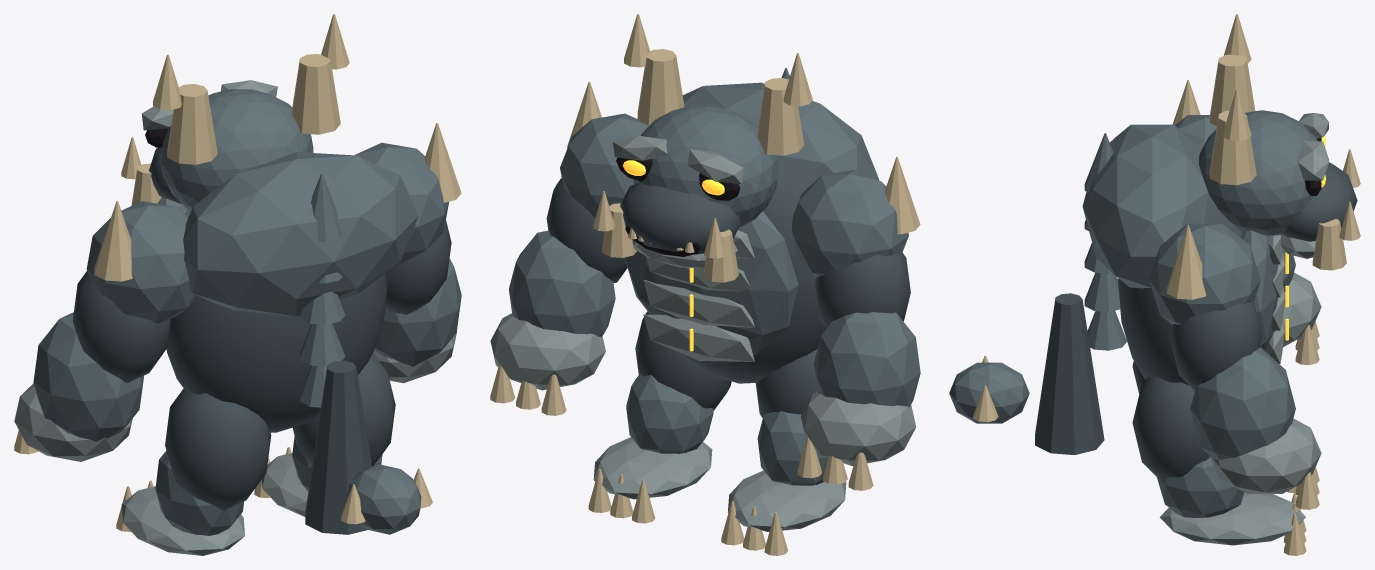
File: riftbeast.glb
3 renders of one model, left to right at view 1: azimuth 30°, elevation 25°; view 2: azimuth 150°, elevation 25°; view 3: azimuth 270°, elevation 25°, orthographic. The views are drawn at different scales.
Visible parts, largest first — view 1: HunchedBack, MassiveTorso, Thigh_-1, HeavySkull, HugeForearm_-1, Shoulder_-1, HeavyTail, UpperArm_-1, HugeForearm_1, Shoulder_1, BroadFoot_-1, TailClub (+21 smaller); view 2: Shoulder_-1, HeavySkull, HugeForearm_-1, HugeForearm_1, ChestArmour, HunchedBack, MassiveTorso, Fist_-1, Fist_1, BluntMuzzle, Shoulder_1, UpperArm_-1 (+33 smaller); view 3: HunchedBack, HeavySkull, HugeForearm_1, HeavyTail, Shoulder_1, Thigh_1, UpperArm_1, Fist_1, BroadFoot_1, MassiveTorso, TailClub, Shin_1 (+22 smaller).
Boxes of the visible parts, x1,y1,x2,y2 form: HunchedBack: (183, 152, 418, 316); MassiveTorso: (166, 273, 387, 432); Thigh_-1: (165, 388, 271, 510); HeavySkull: (161, 89, 313, 209); HugeForearm_-1: (33, 312, 143, 441); Shoulder_-1: (86, 201, 196, 323); HeavyTail: (305, 360, 371, 534); UpperArm_-1: (73, 271, 170, 382); HugeForearm_1: (374, 259, 461, 366); Shoulder_1: (355, 142, 448, 267); BroadFoot_-1: (121, 486, 244, 555); TailClub: (347, 464, 421, 534); Shoulder_-1: (791, 169, 908, 276); HeavySkull: (633, 105, 777, 227); HugeForearm_-1: (814, 312, 920, 407); HugeForearm_1: (509, 230, 615, 336); ChestArmour: (624, 211, 798, 354); HunchedBack: (682, 82, 878, 189); MassiveTorso: (680, 166, 825, 383); Fist_-1: (800, 391, 915, 466); Fist_1: (490, 313, 605, 390); BluntMuzzle: (620, 183, 741, 254); Shoulder_1: (560, 113, 648, 217); UpperArm_-1: (815, 252, 910, 326); HunchedBack: (1082, 124, 1208, 288); HeavySkull: (1199, 110, 1327, 236); HugeForearm_1: (1190, 347, 1295, 459); HeavyTail: (1035, 293, 1104, 454); Shoulder_1: (1149, 223, 1260, 324); Thigh_1: (1132, 376, 1209, 480); UpperArm_1: (1170, 301, 1261, 390); Fist_1: (1210, 418, 1321, 493); BroadFoot_1: (1159, 492, 1305, 545); MassiveTorso: (1118, 195, 1241, 385); TailClub: (949, 362, 1029, 423); Shin_1: (1157, 457, 1244, 517).
Bounding box in the file's own units: 6.2 × 6.89 × 5.61.
